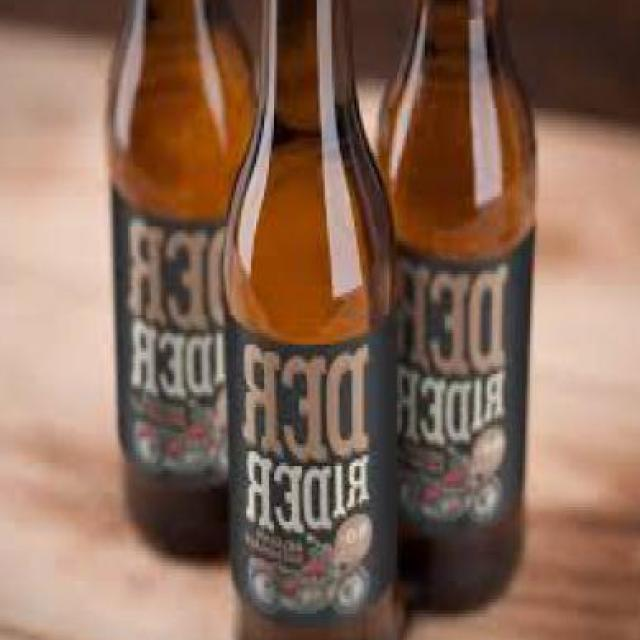kaca: (228, 0, 397, 640), (375, 0, 540, 610), (110, 0, 261, 548)
